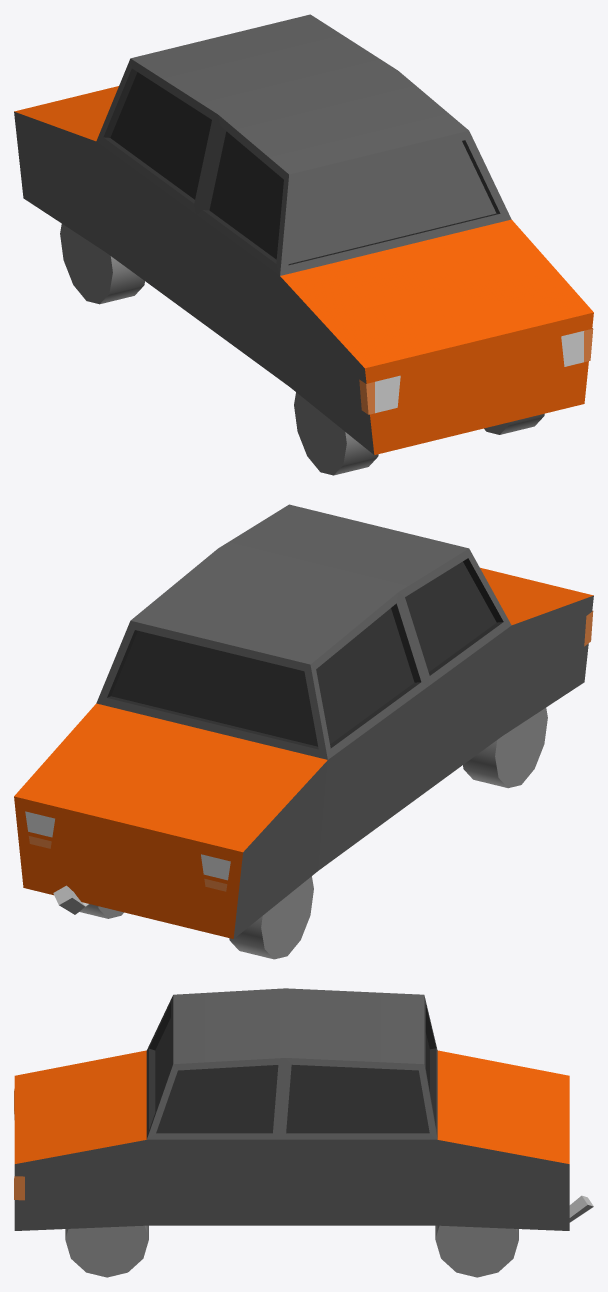
Rendered from car_mixed_10.fbx.
3 renders of one model, top to bottom at view 1: azimuth 30°, elevation 25°; view 2: azimuth 150°, elevation 25°; view 3: azimuth 270°, elevation 25°, orthographic. The views are drawn at different scales.
Visible parts, largest first — view 1: car_mixed_10; view 2: car_mixed_10; view 3: car_mixed_10.
Part boxes in pixels (box(x1,y1,x2,y2)): car_mixed_10: box(14, 14, 593, 475); car_mixed_10: box(14, 504, 593, 959); car_mixed_10: box(14, 988, 593, 1277).
Bounding box in the file's own units: 1.6 × 1.8 × 4.39.
